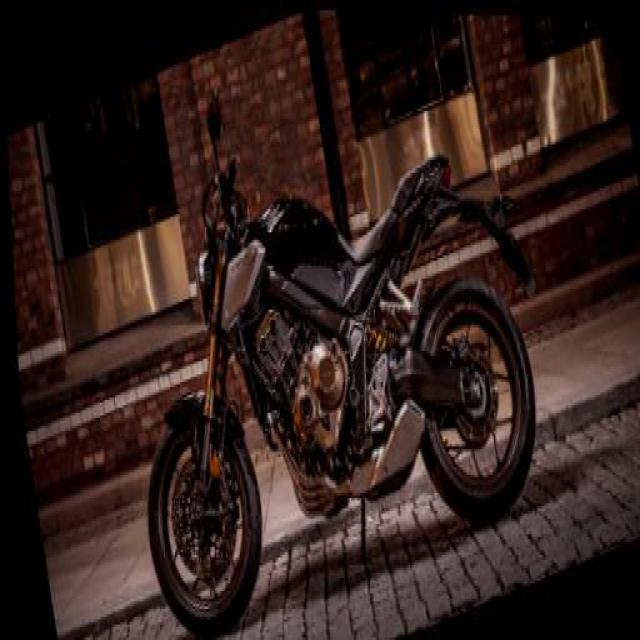CB650R: (96, 88, 556, 637)
